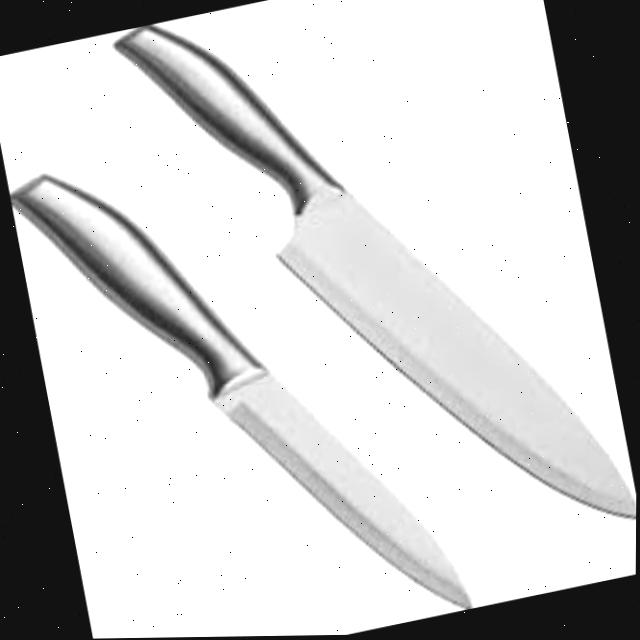knife: (105, 0, 640, 608), (4, 98, 481, 640)
